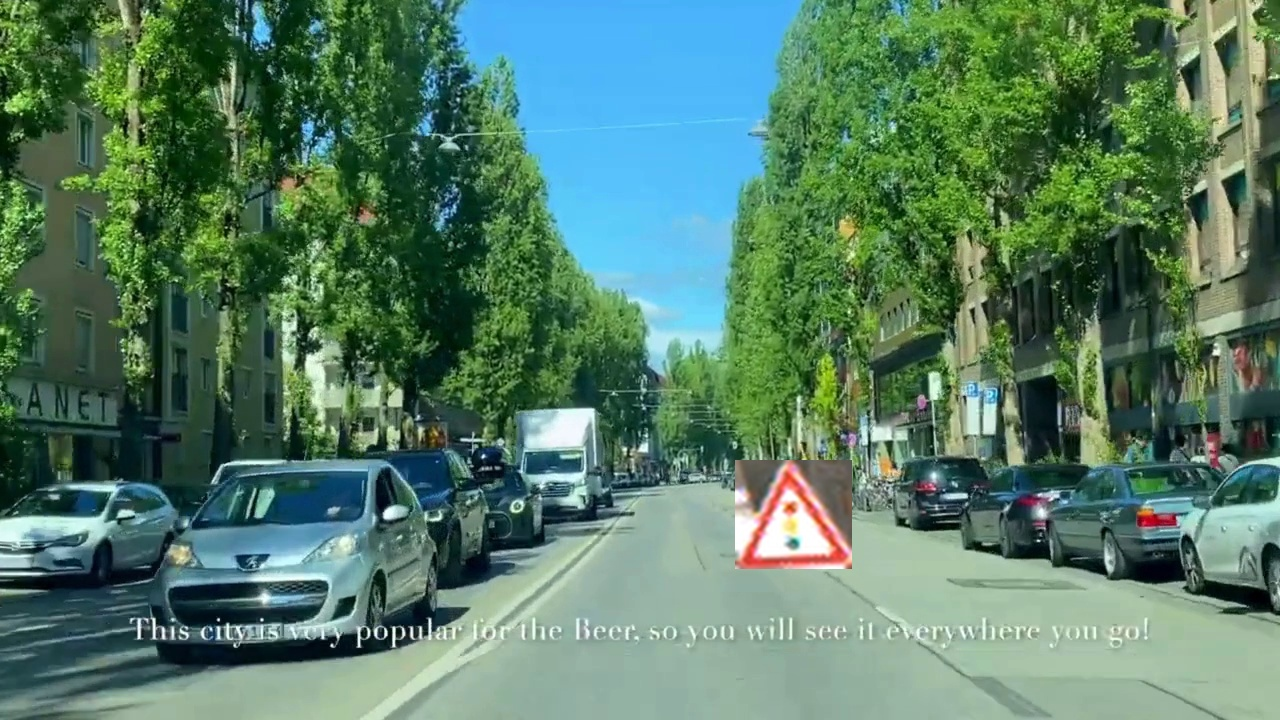Signals: (735, 460, 852, 569)
